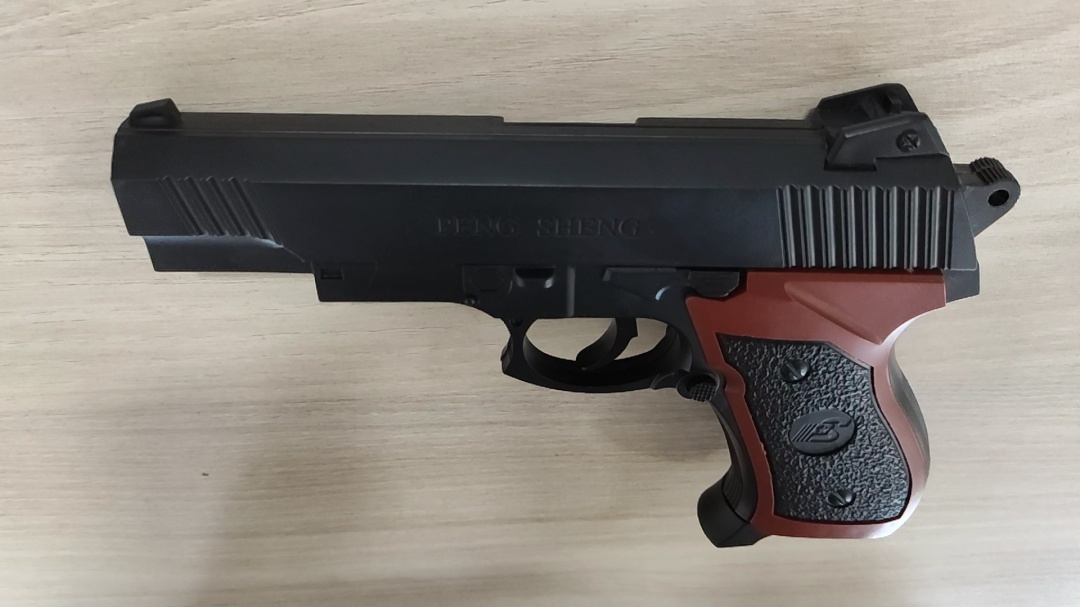gun: (428, 321, 480, 445)
